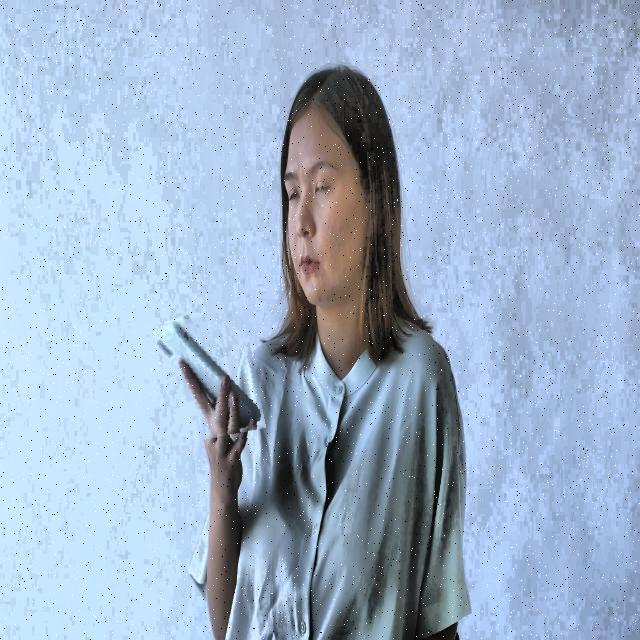Phone: (158, 312, 261, 442)
